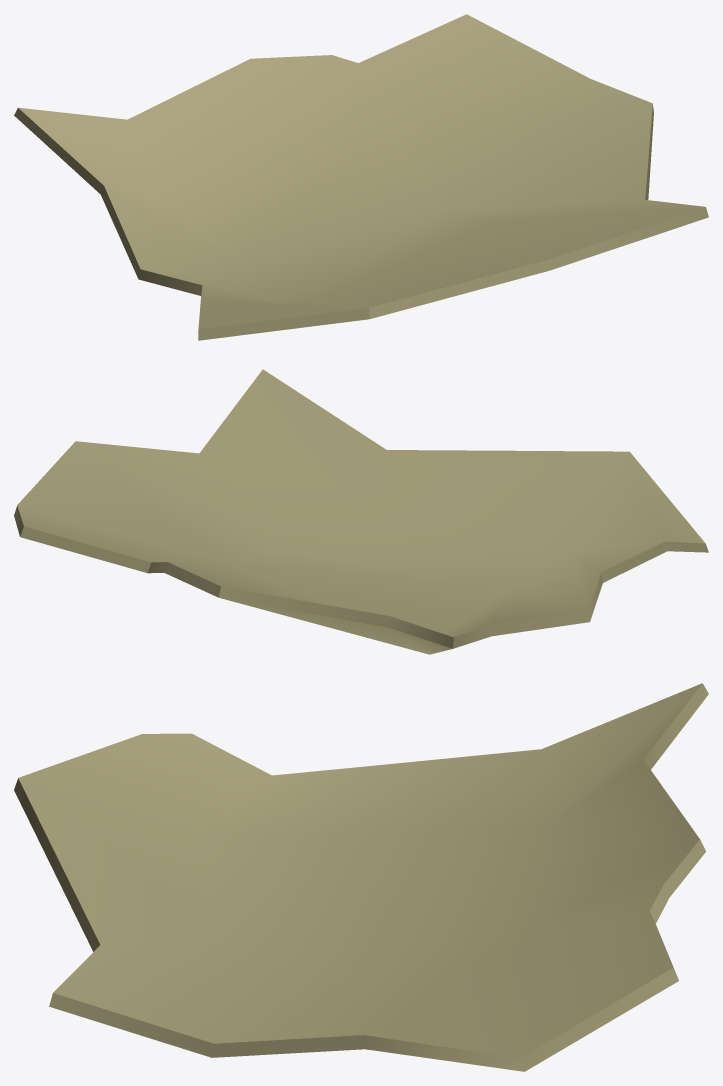
The model's file is Chip_Broken.fbx.
3 views of the same model, one above another, from view 1: azimuth 30°, elevation 25°; view 2: azimuth 150°, elevation 25°; view 3: azimuth 270°, elevation 25° (orthographic). The views are drawn at different scales.
Visible parts, largest first — view 1: Chip_Broken; view 2: Chip_Broken; view 3: Chip_Broken.
Part boxes in pixels (box(x1,y1,x2,y2)): Chip_Broken: box(14, 14, 708, 340); Chip_Broken: box(14, 369, 708, 654); Chip_Broken: box(14, 683, 708, 1071).
Bounding box in the file's own units: 2.04 × 0.3309 × 1.73.
